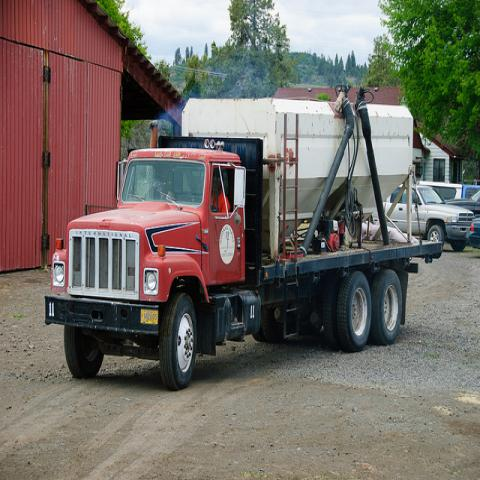car: (455, 197, 479, 250)
truck: (46, 82, 440, 385), (416, 184, 474, 252), (446, 188, 480, 217), (428, 180, 461, 200)
